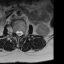CCS_normal: (18, 28, 20, 39)
LFS_normal: (22, 29, 24, 37)
LLS_normal: (20, 28, 22, 37)
RFS_stenosis: (13, 28, 16, 35)
RLS_normal: (16, 28, 18, 36)
